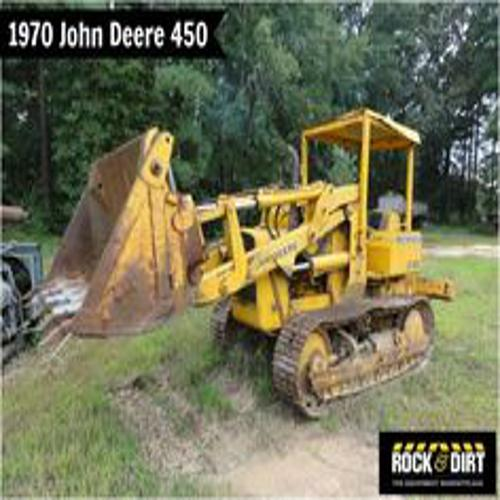con_eq: (49, 98, 439, 411)
